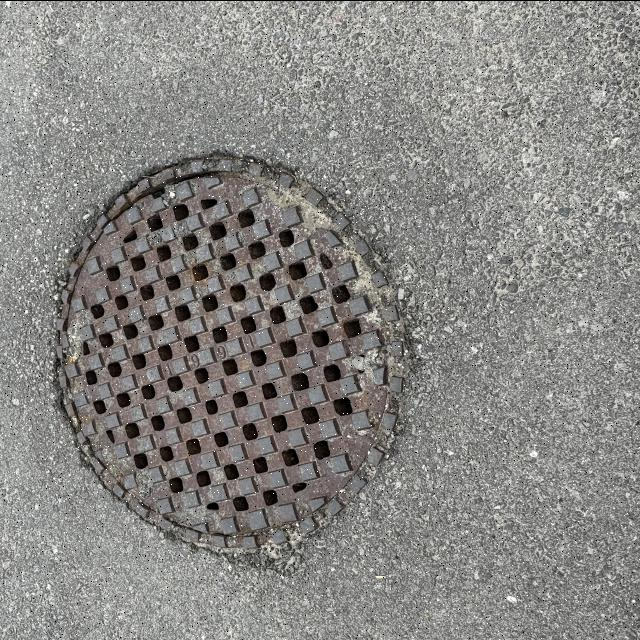Manhole: (51, 150, 414, 556)
